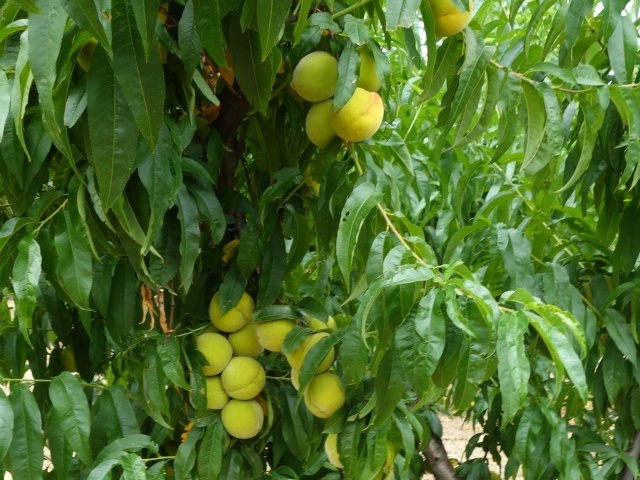peach: (290, 43, 350, 105), (333, 86, 389, 145), (344, 37, 396, 100), (279, 325, 338, 380), (206, 282, 261, 333), (301, 93, 347, 153), (303, 369, 352, 422), (221, 353, 269, 401), (222, 391, 267, 442), (420, 1, 476, 41), (189, 329, 236, 376), (224, 315, 272, 360), (254, 313, 302, 355), (195, 371, 236, 411), (318, 430, 351, 473)
